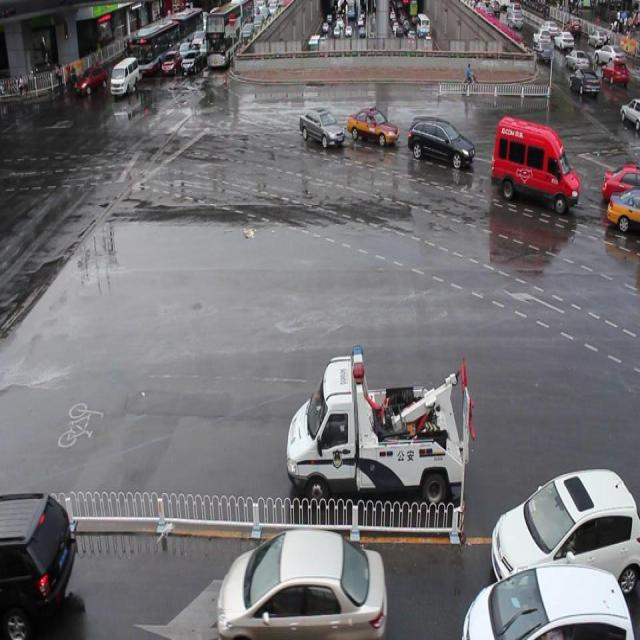bus: (285, 343, 473, 512)
car: (491, 465, 640, 597), (219, 524, 386, 640), (460, 563, 632, 640), (0, 490, 76, 640), (408, 115, 473, 169), (347, 106, 397, 148), (298, 107, 344, 148), (600, 161, 640, 204), (605, 187, 640, 235)
truck: (491, 114, 578, 213)
